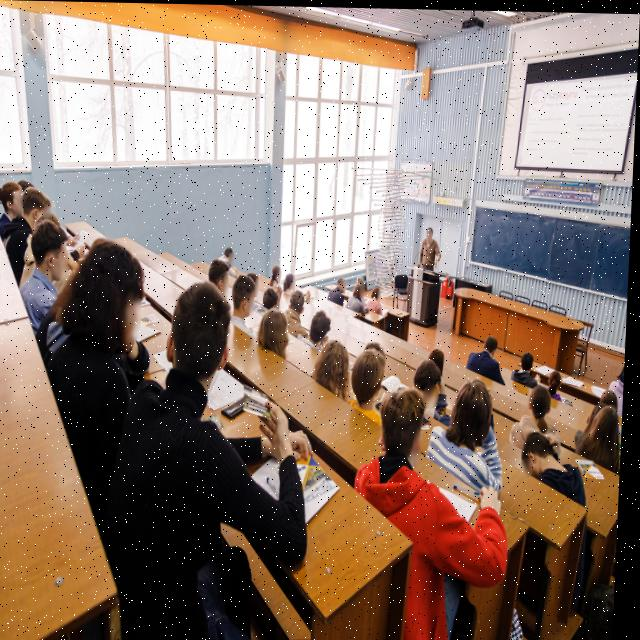Person: (123, 280, 313, 640), (42, 211, 198, 531), (346, 392, 471, 640), (24, 207, 77, 333), (525, 426, 585, 509), (511, 380, 568, 451), (580, 396, 625, 477), (307, 332, 356, 401), (260, 303, 302, 376), (350, 350, 393, 417), (409, 358, 452, 418), (466, 328, 508, 383), (18, 185, 52, 243), (203, 243, 234, 305), (231, 275, 264, 332), (414, 223, 452, 272), (0, 180, 26, 249), (308, 303, 339, 348), (285, 287, 311, 340), (545, 364, 577, 406), (516, 348, 541, 386), (430, 343, 453, 384), (351, 280, 370, 320), (222, 241, 243, 277), (333, 274, 352, 312), (282, 269, 306, 298), (259, 283, 283, 310), (369, 284, 387, 316), (269, 261, 285, 286), (359, 271, 368, 289)
